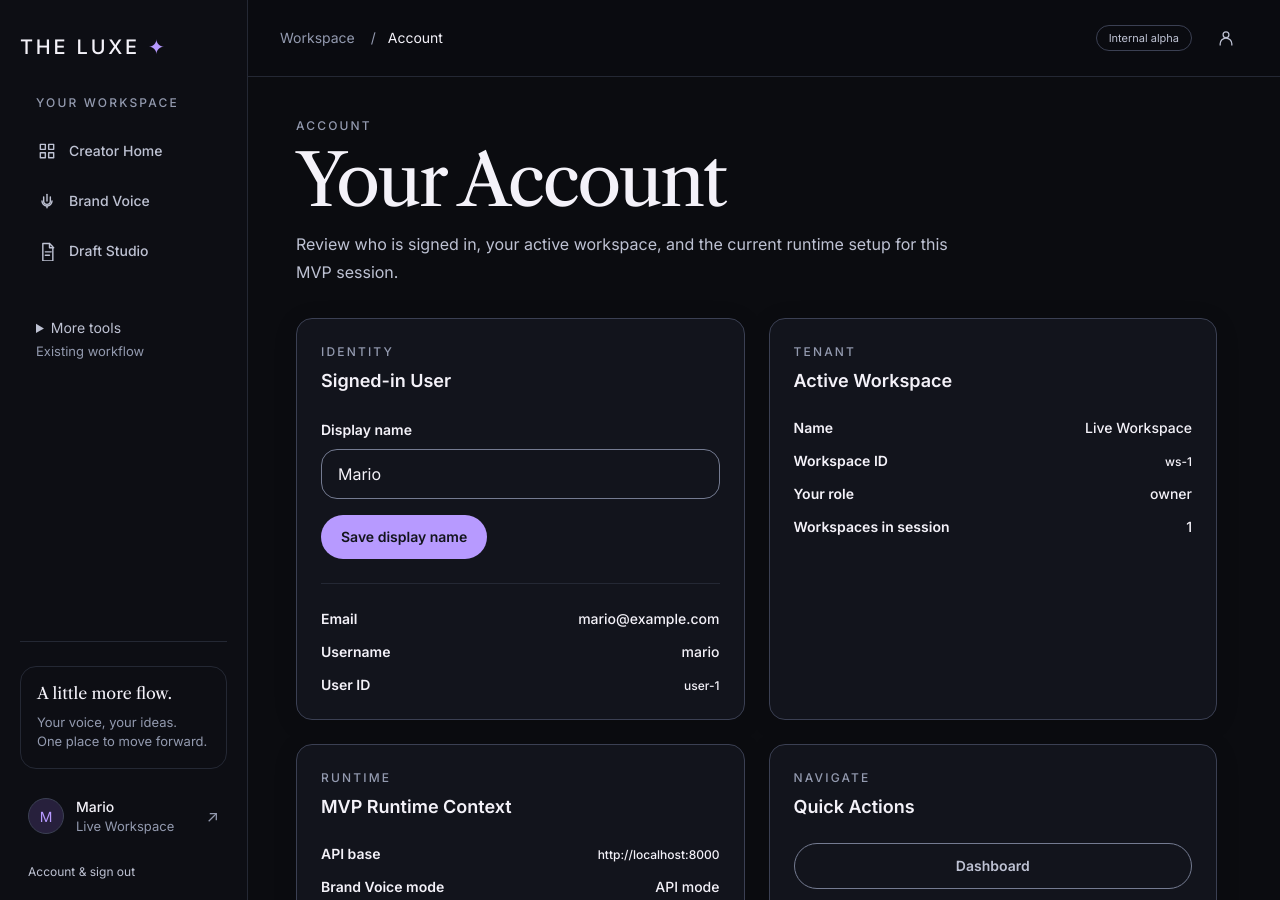
Scenario: shows the newly saved account name in the shell without navigation or losing form feedback
Replace the text in the field labelled "Display name" with "Mario Updated" at (520, 474), box [321,449,720,499]
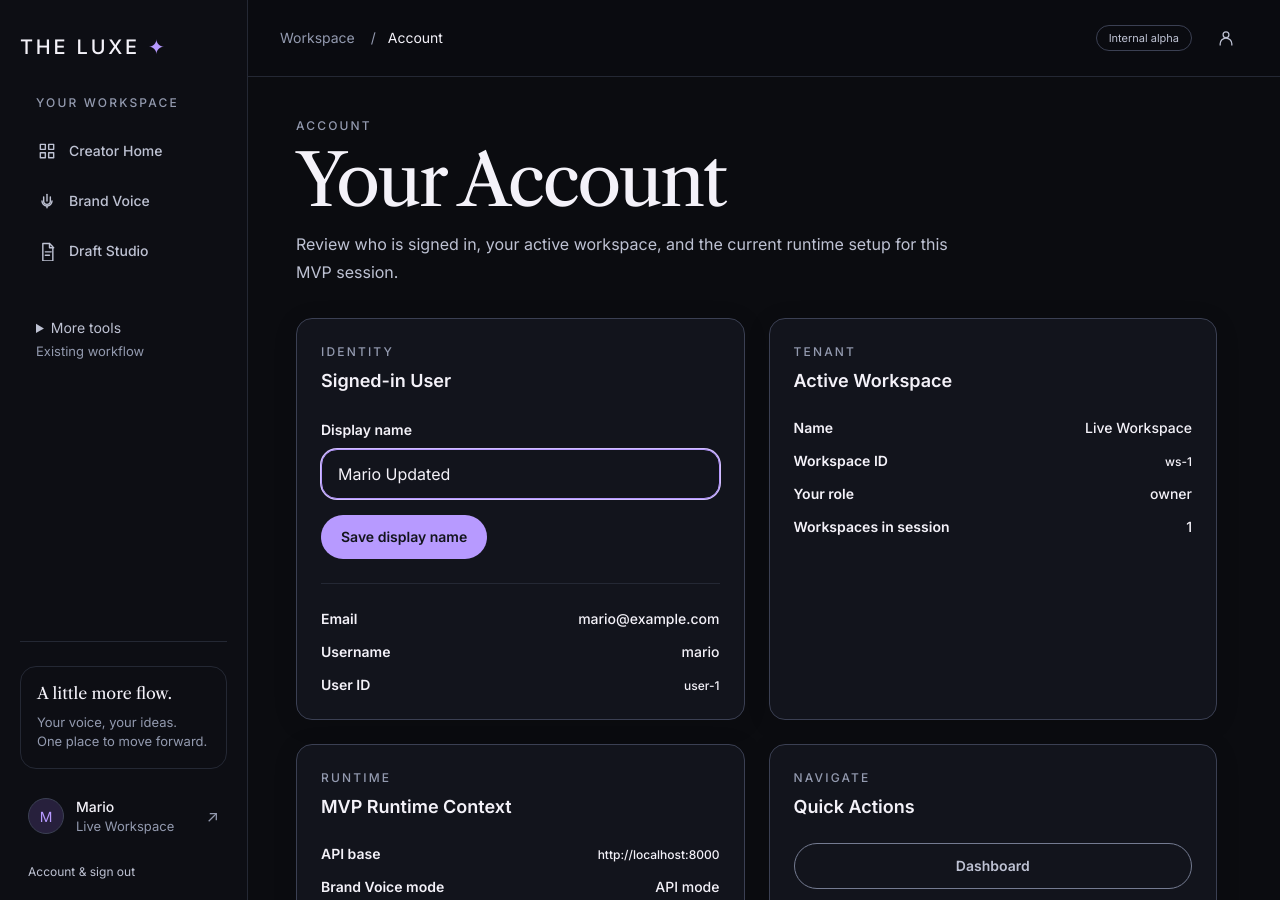
Click the button "Save display name".
click(404, 537)  # box [321,515,487,559]
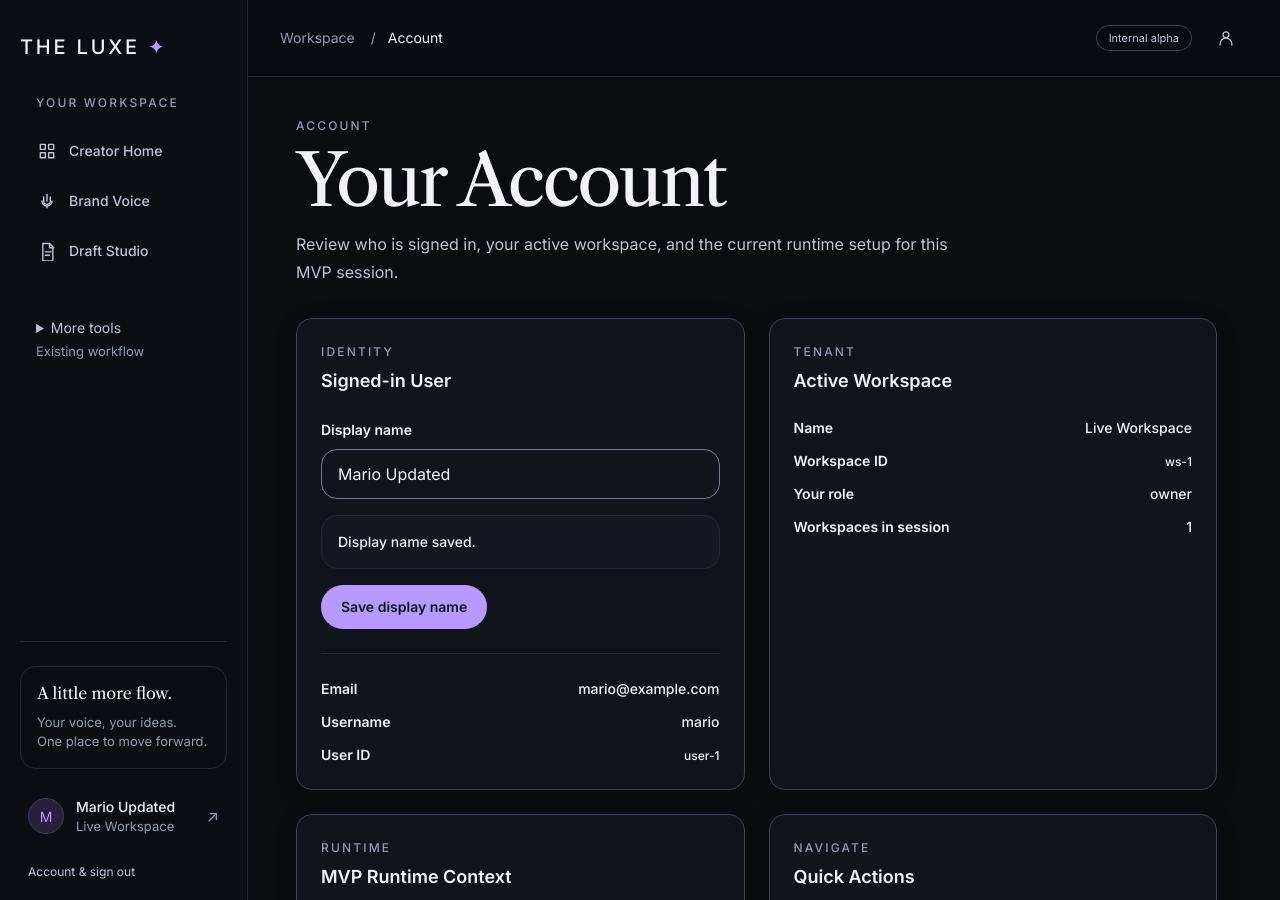
Expected: the text "Display name saved." is shown, [321,515,720,569]
Expected: the text "Mario Updated" is shown, [76,796,175,816]
